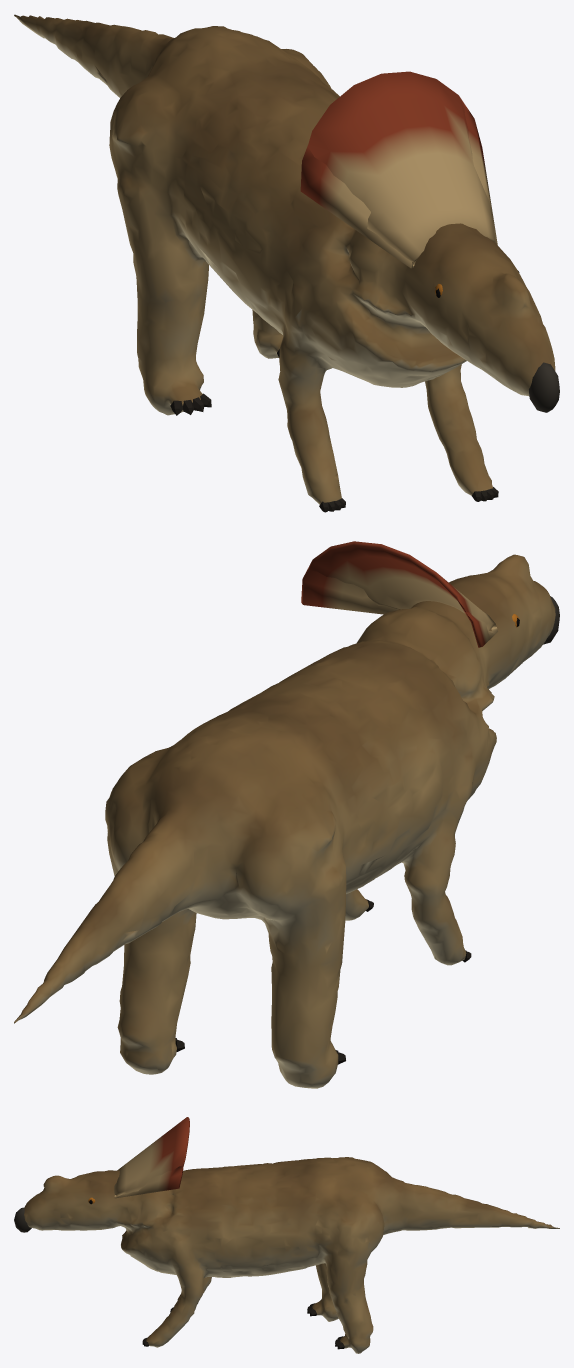
Rendered from Protoceratops.fbx.
The picture shows the model from 3 angles, top to bottom: view 1: azimuth 30°, elevation 25°; view 2: azimuth 150°, elevation 25°; view 3: azimuth 270°, elevation 25°; orthographic projection. The views are drawn at different scales.
Visible parts, largest first — view 1: Protoceratops; view 2: Protoceratops; view 3: Protoceratops.
Boxes of the visible parts, bbox=[...] form: Protoceratops: bbox=[14, 14, 559, 512]; Protoceratops: bbox=[14, 541, 559, 1088]; Protoceratops: bbox=[14, 1117, 559, 1353].
Bounding box in the file's own units: 0.364 × 0.6833 × 1.57.
